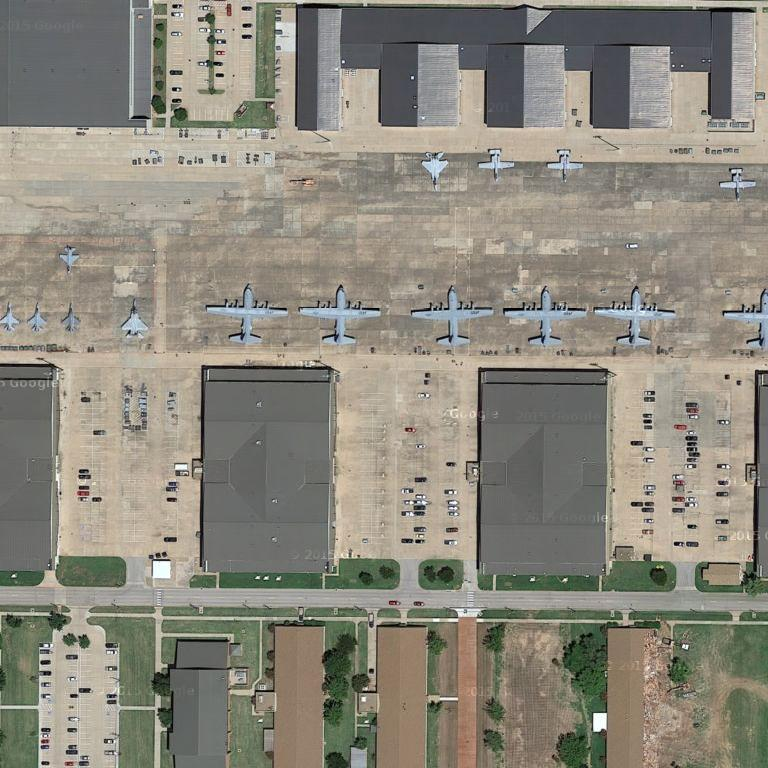A-10: (714, 166, 761, 201), (474, 147, 519, 181), (542, 148, 588, 180)
C-130: (590, 283, 681, 351), (499, 284, 589, 350), (297, 284, 386, 347), (202, 285, 291, 346), (407, 285, 495, 346)
F-16: (22, 300, 49, 337), (57, 300, 83, 337), (55, 245, 85, 277), (1, 300, 23, 333)
F/A-18: (115, 295, 152, 344), (417, 149, 451, 190)
